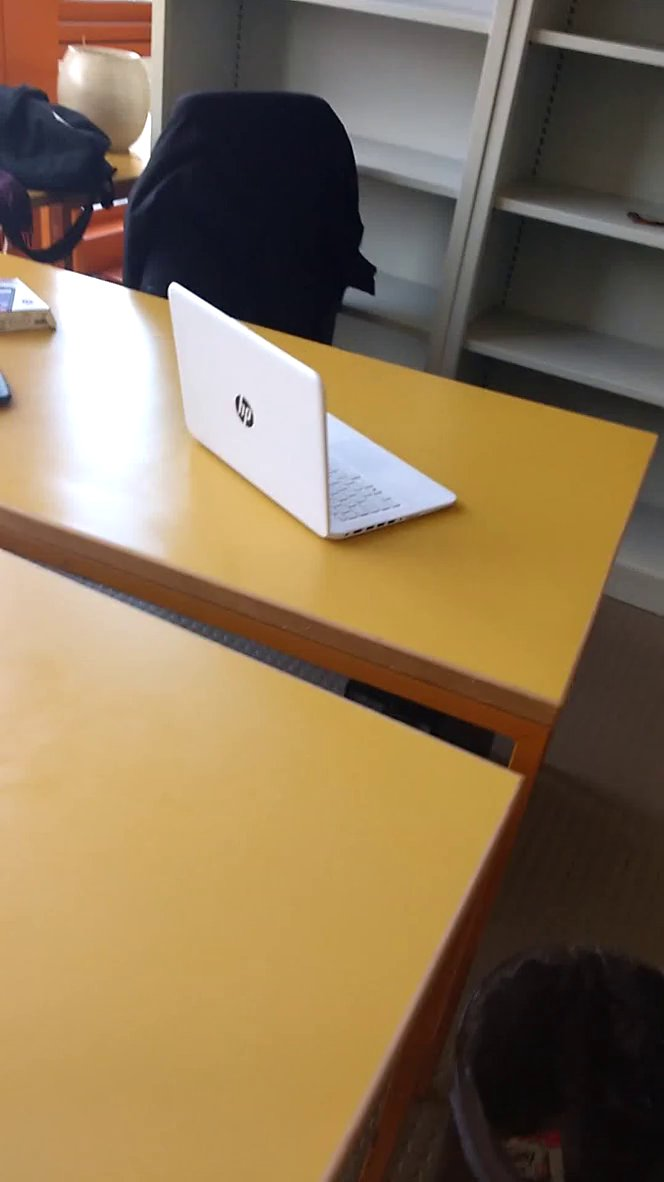chair: (130, 79, 369, 352)
laptop: (154, 269, 465, 557)
